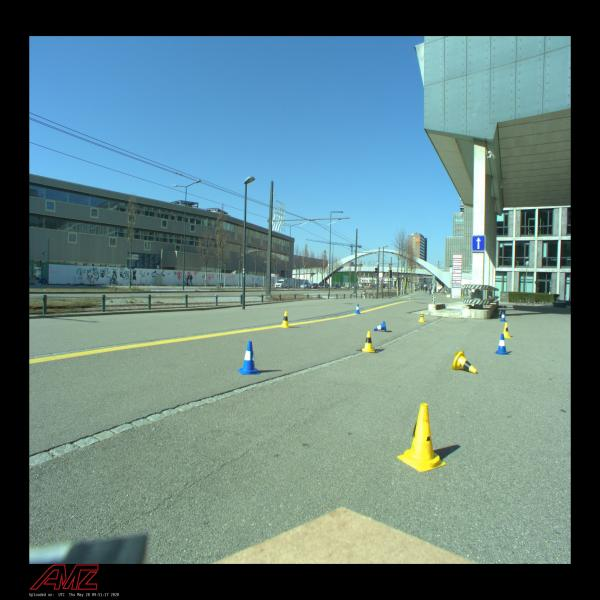blue_cone: (238, 340, 260, 374), (493, 334, 511, 355), (374, 321, 387, 332), (500, 312, 507, 322), (354, 304, 360, 314)
yellow_cone: (397, 403, 446, 472), (451, 351, 477, 374), (361, 332, 375, 352), (280, 311, 290, 328), (503, 323, 511, 338), (418, 311, 426, 322)
